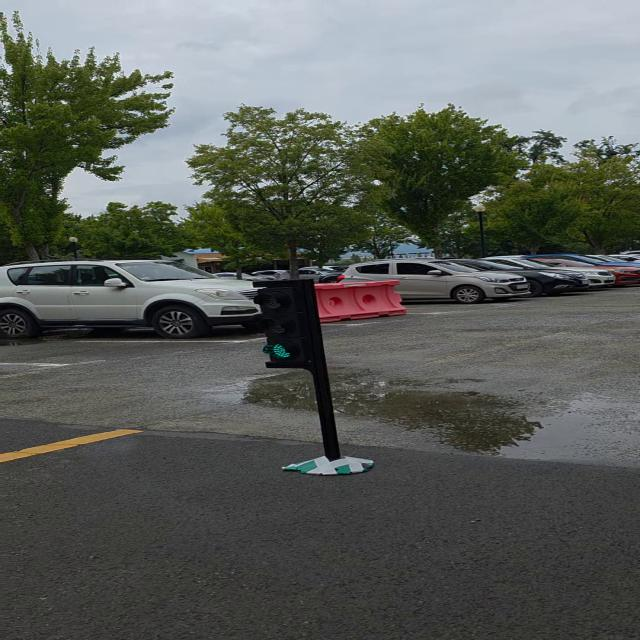green: (255, 282, 321, 370)
